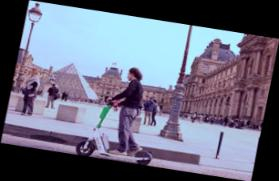nonhelmet: (74, 60, 171, 166)
